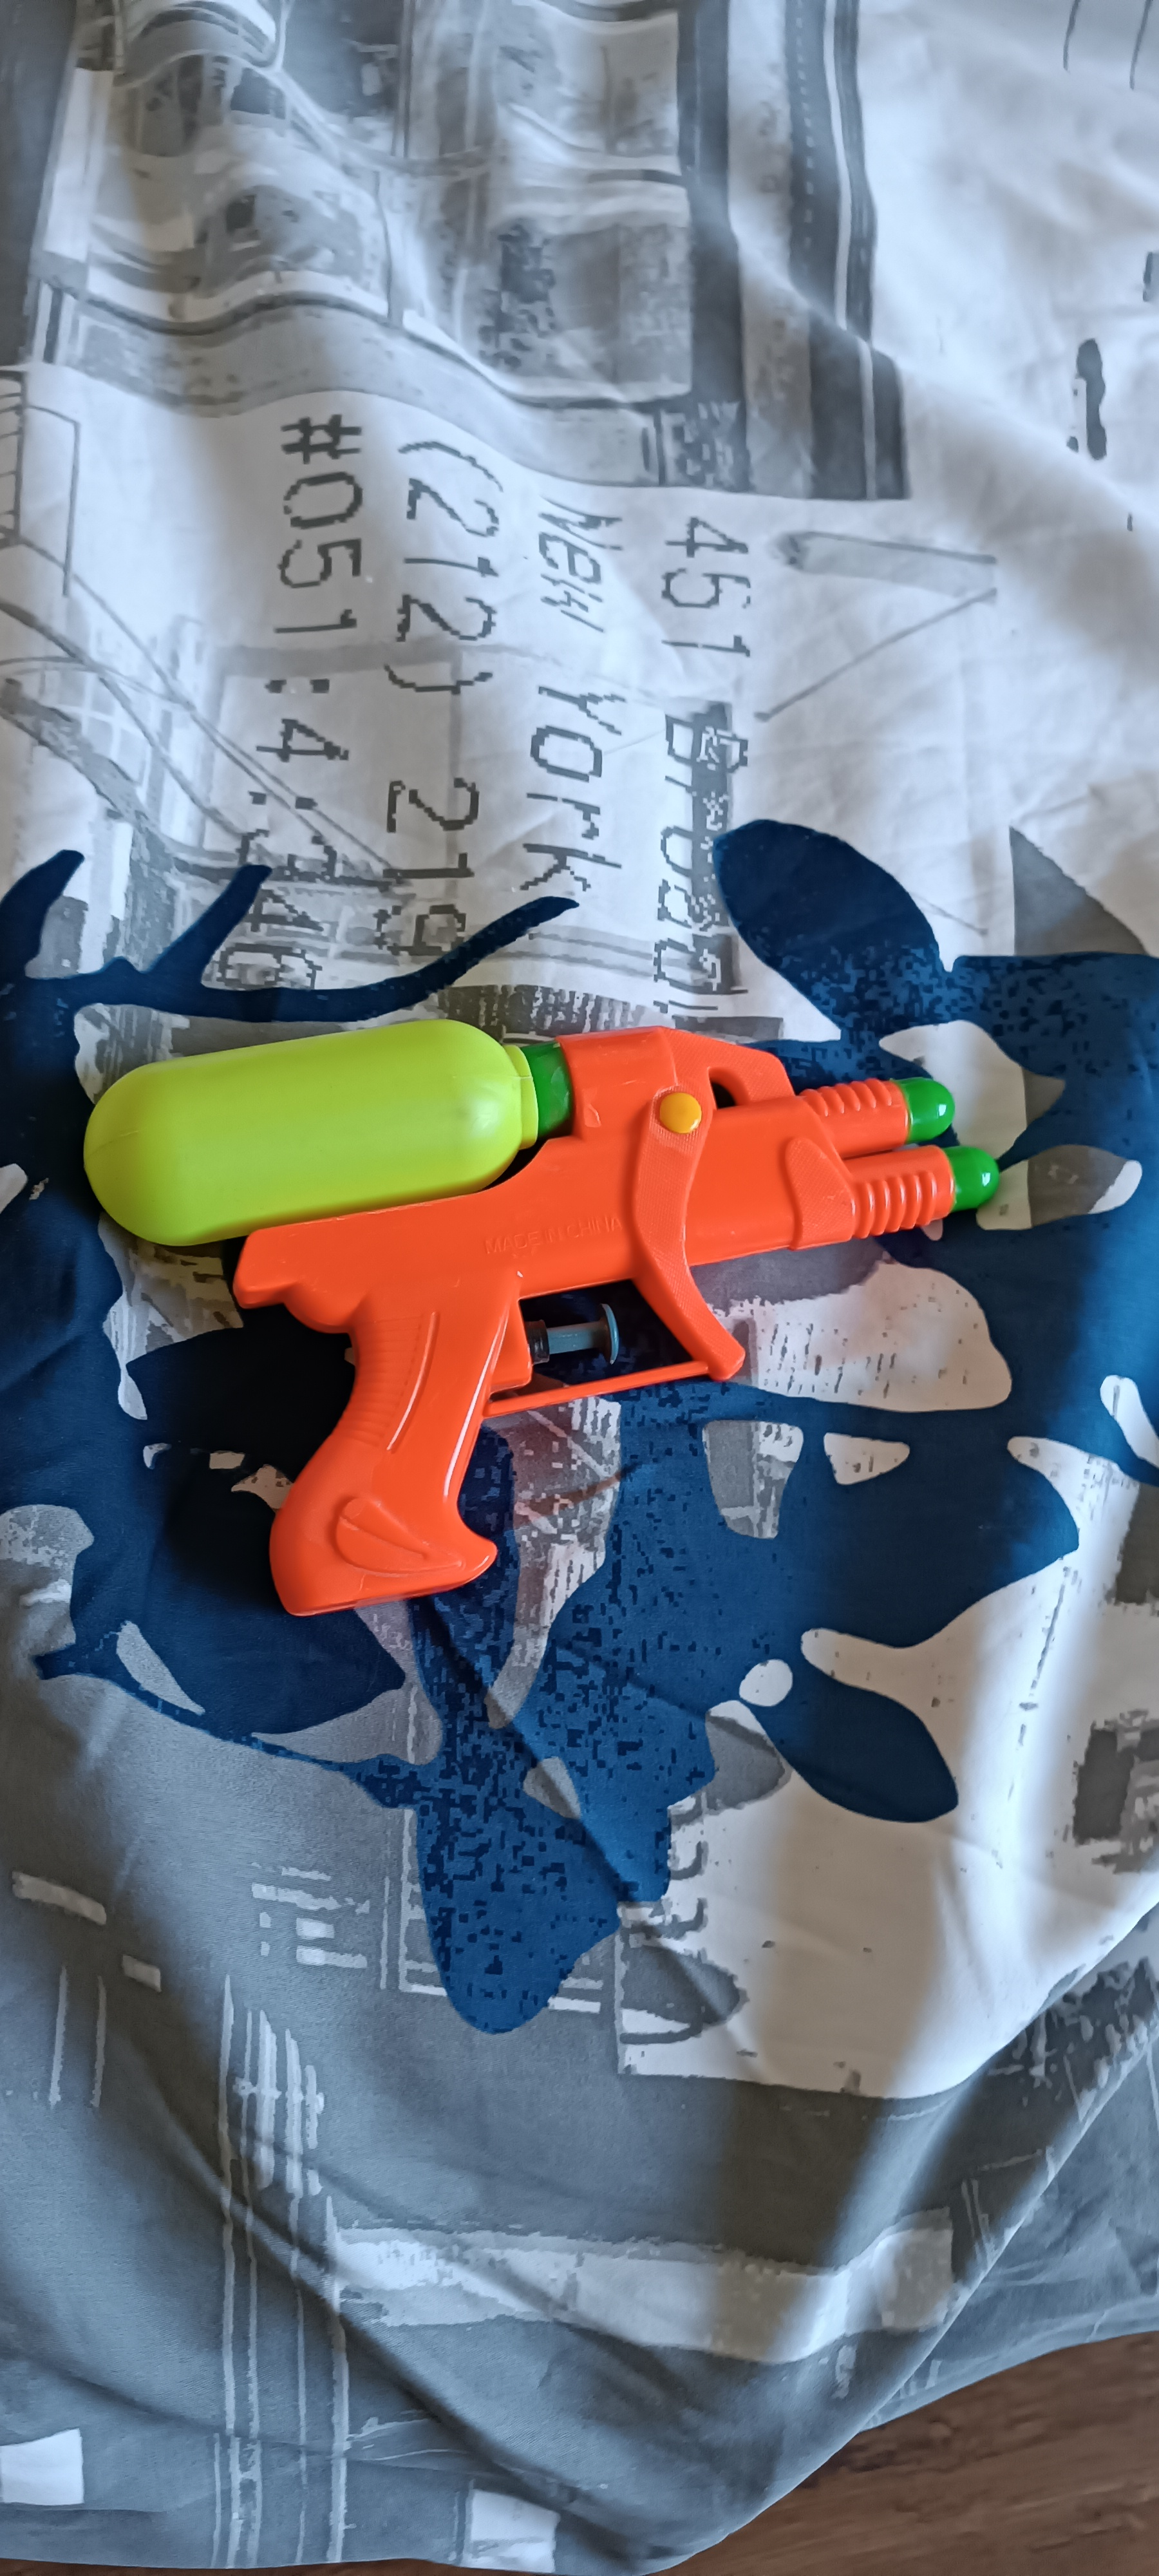Water Gun: (82, 1017, 1001, 1620)
